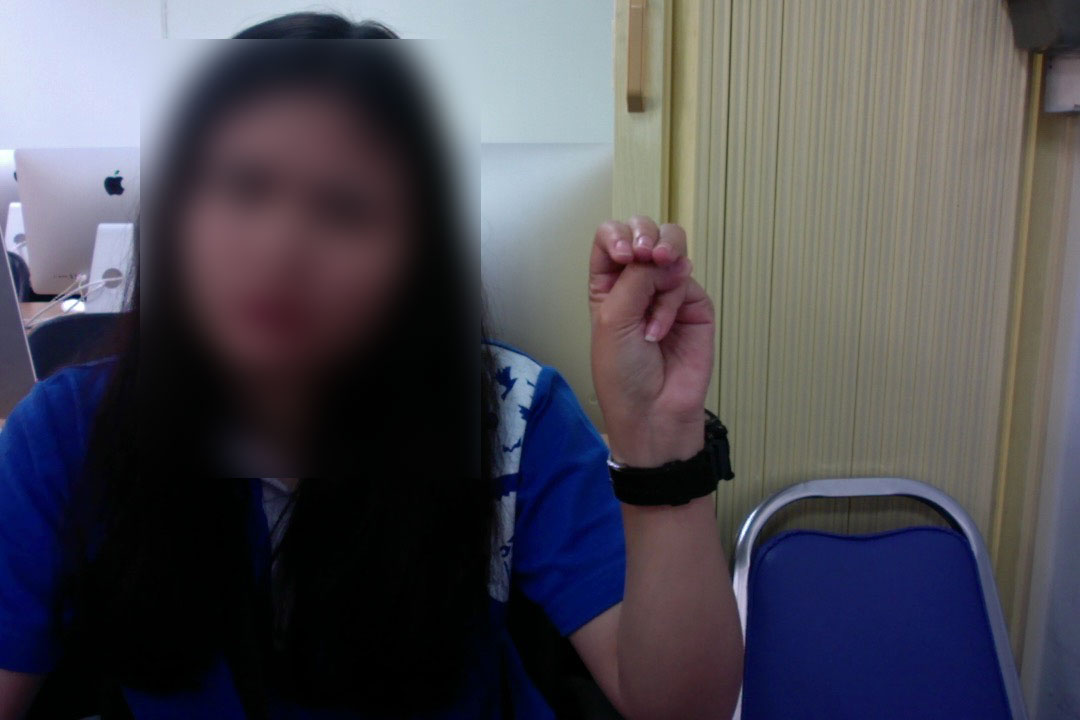mor: (579, 210, 727, 453)
